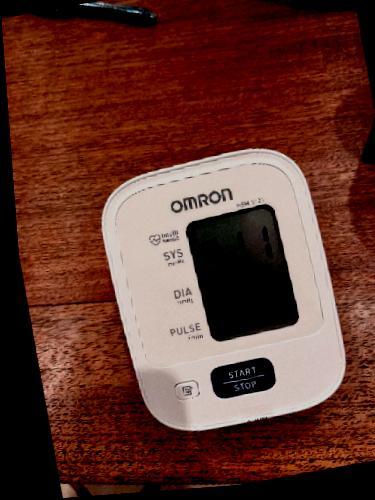bpm: (184, 202, 301, 345)
